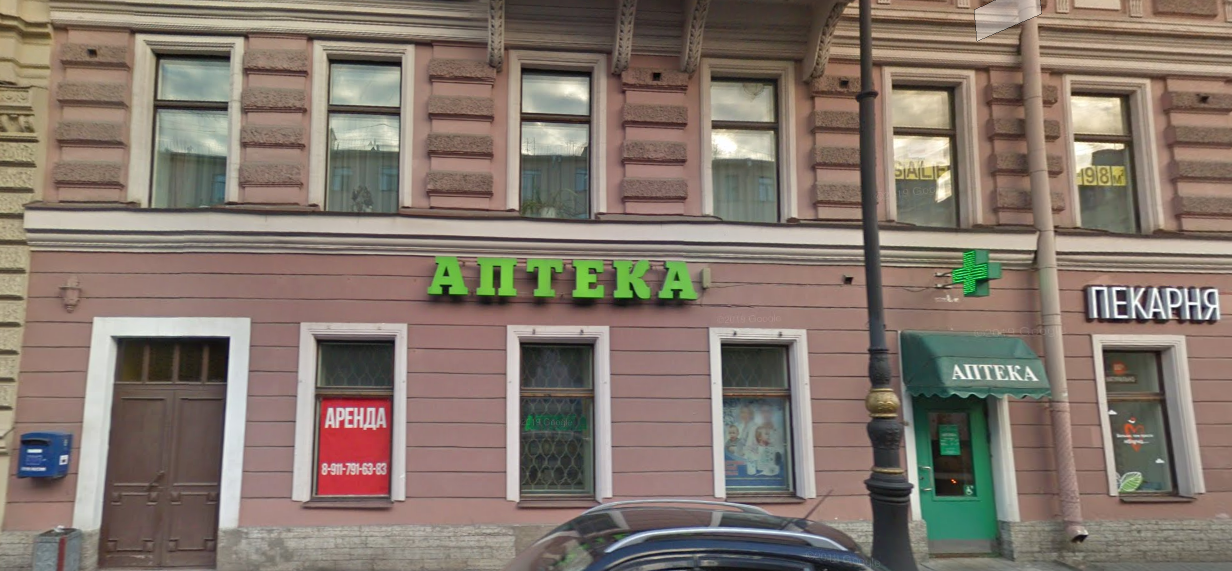cantilever: (936, 249, 1002, 301)
door: (103, 385, 218, 569), (916, 407, 992, 559)
signboard: (425, 257, 708, 299), (1090, 285, 1224, 322)
window: (148, 53, 231, 210), (315, 340, 396, 500), (516, 339, 595, 498), (719, 335, 796, 492), (516, 71, 597, 212), (326, 62, 398, 212), (1067, 88, 1138, 233), (1105, 348, 1178, 489), (712, 79, 779, 219), (896, 84, 954, 225)
